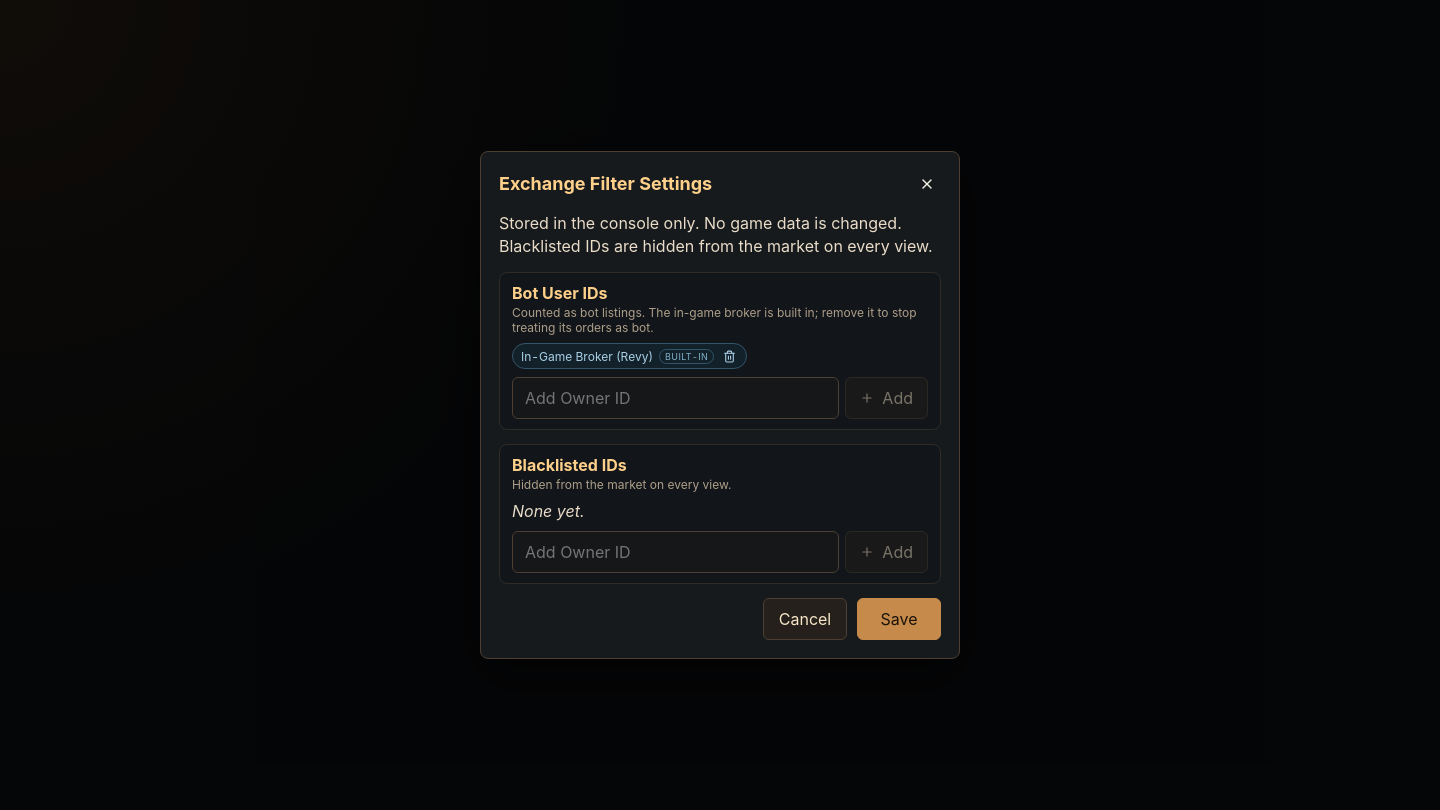
Test: ExchangeConfigOverlay › strips non-numeric input and disables Add for empty values
Expected: the button "Add" below "In-Game Broker (Revy)" is disabled, [845, 377, 928, 419]
// Letters are stripped by the input handler, keeping the field numeric-only.
In the field with placeholder "Add Owner ID" below "In-Game Broker (Revy)": (676, 398) [512, 377, 839, 419], type "1a2b3"
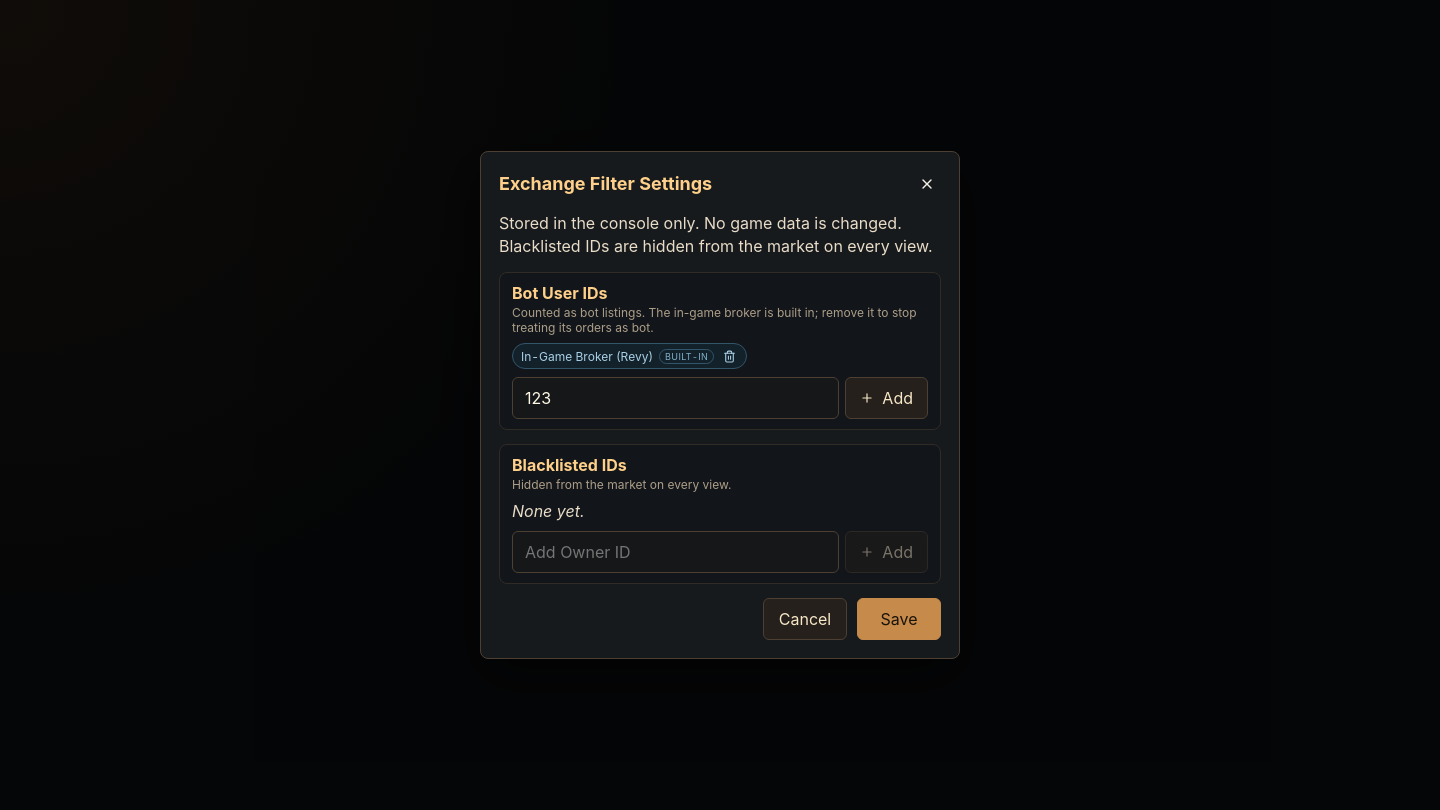
Result: the field with placeholder "Add Owner ID" holds "123" at [512, 377, 839, 419]
